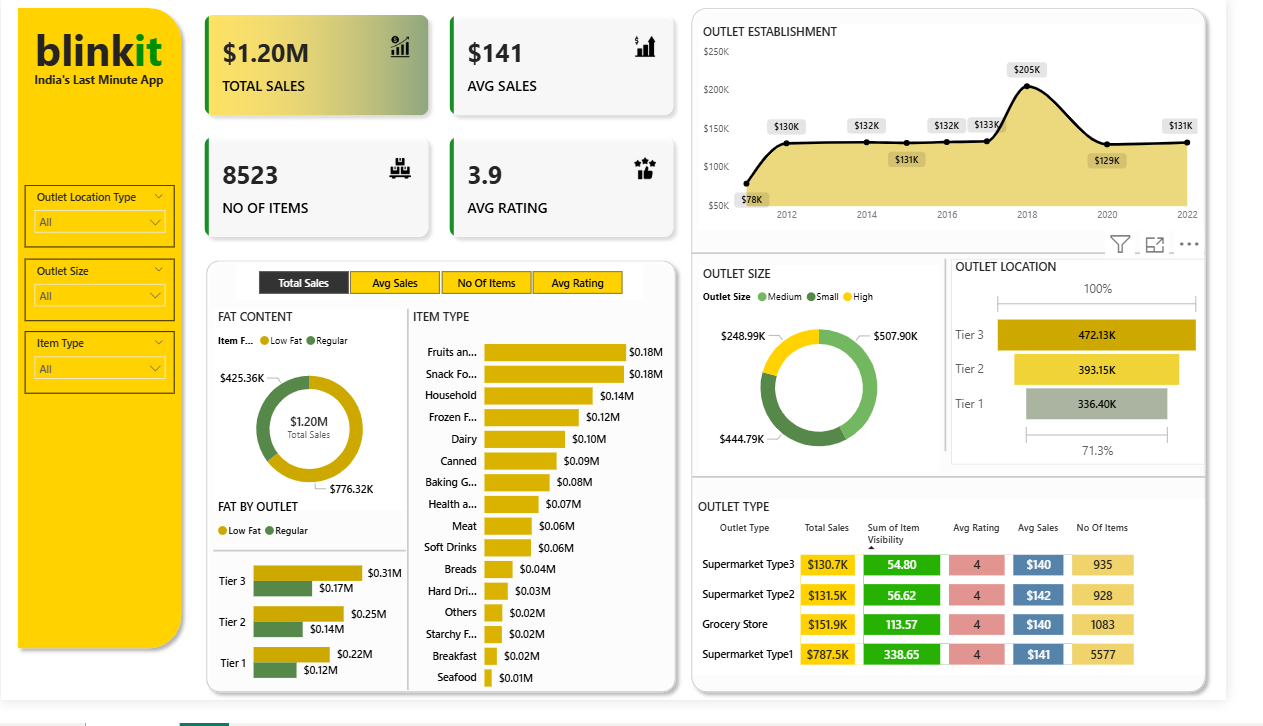

Layout of this report page (visuals, bound fields, positions):
{"tool":"powerbi","page":{"name":"Page 1","canvas":[1400,800],"ordinal":0},"visuals":[{"type":"shape","box":[10,0,205,750],"z":0},{"type":"textbox","box":[20,76.7,183.3,32.2],"z":1000},{"type":"textbox","box":[27.8,18.9,168.9,74.4],"z":2000},{"type":"cardVisual","fields":{"Data":["BlinkIT Grocery Data.Total Sales","BlinkIT Grocery Data.Avg Sales","BlinkIT Grocery Data.No Of Items","BlinkIT Grocery Data.Avg Rating"]},"box":[215.7,0,570,288.6],"z":3000},{"type":"shape","box":[225.7,288.6,554.3,511.4],"z":4000},{"type":"donutChart","title":"FAT CONTENT","fields":{"Y":["BlinkIT Grocery Data.Total Sales"],"Category":["BlinkIT Grocery Data.Item Fat Content"]},"box":[242.9,352.9,220,230],"z":5000},{"type":"slicer","fields":{"Values":["Metrics.Metrics"]},"box":[268.6,302.9,465.7,40],"z":6000},{"type":"cardVisual","fields":{"Data":["BlinkIT Grocery Data.Total Sales"]},"box":[284.3,444.3,135.7,87.1],"z":7000},{"type":"clusteredBarChart","title":"FAT BY OUTLET","fields":{"Y":["BlinkIT Grocery Data.Total Sales"],"Category":["BlinkIT Grocery Data.Outlet Location Type"],"Series":["BlinkIT Grocery Data.Item Fat Content"]},"box":[242.9,570,220,230],"z":8000},{"type":"shape","box":[242.9,622.9,220,12.9],"z":9000},{"type":"shape","box":[452.9,352.9,24.3,435.7],"z":10000},{"type":"barChart","title":"ITEM TYPE","fields":{"Y":["BlinkIT Grocery Data.Total Sales"],"Category":["BlinkIT Grocery Data.Item Type"]},"box":[465.7,352.9,295.7,447.1],"z":11000},{"type":"shape","box":[780,0,605.7,800],"z":12000},{"type":"lineChart","title":"OUTLET ESTABLISHMENT ","fields":{"Category":["BlinkIT Grocery Data.Outlet Establishment Year"],"Y":["BlinkIT Grocery Data.Total Sales"]},"box":[797.1,27.1,575.7,235.7],"z":13000},{"type":"shape","box":[788.6,282.9,587.1,12.9],"z":14000},{"type":"donutChart","title":"OUTLET SIZE","fields":{"Y":["BlinkIT Grocery Data.Total Sales"],"Category":["BlinkIT Grocery Data.Outlet Size"]},"box":[797.1,302.9,275.7,235.7],"z":15000},{"type":"shape","box":[1072.9,295.7,12.9,220],"z":16000},{"type":"funnel","title":"OUTLET LOCATION","fields":{"Y":["Sum(BlinkIT Grocery Data.Sales)"],"Category":["BlinkIT Grocery Data.Outlet Location Type"]},"box":[1085.7,295.7,290,235.7],"z":17000},{"type":"shape","box":[790,538.6,587.1,12.9],"z":18000},{"type":"pivotTable","title":"OUTLET TYPE","fields":{"Rows":["BlinkIT Grocery Data.Outlet Type"],"Values":["BlinkIT Grocery Data.Total Sales","Sum(BlinkIT Grocery Data.Item Visibility)","BlinkIT Grocery Data.Avg Rating","BlinkIT Grocery Data.Avg Sales","BlinkIT Grocery Data.No Of Items"]},"box":[791.4,570,584.3,201.4],"z":19000},{"type":"slicer","fields":{"Values":["BlinkIT Grocery Data.Outlet Location Type"]},"box":[27.1,211.4,171.4,71.4],"z":20000},{"type":"slicer","fields":{"Values":["BlinkIT Grocery Data.Outlet Size"]},"box":[27.1,295.7,171.4,71.4],"z":21000},{"type":"slicer","fields":{"Values":["BlinkIT Grocery Data.Item Type"]},"box":[27.1,378.6,171.4,71.4],"z":22000}]}

Visuals, with their boxes in screenshot pixels (x1, y1, x2, y2), scaled from the page's 1400x800 canvas onto the 1263x726 screenshot:
shape: [left=9, top=0, right=194, bottom=681]
textbox: [left=18, top=70, right=183, bottom=99]
textbox: [left=25, top=17, right=177, bottom=85]
cardVisual - BlinkIT Grocery Data.Total Sales x BlinkIT Grocery Data.Avg Sales: [left=195, top=0, right=709, bottom=262]
shape: [left=204, top=262, right=704, bottom=725]
"FAT CONTENT" donutChart: [left=219, top=320, right=418, bottom=529]
slicer - Metrics.Metrics: [left=242, top=275, right=662, bottom=311]
cardVisual - BlinkIT Grocery Data.Total Sales: [left=256, top=403, right=379, bottom=482]
"FAT BY OUTLET" clusteredBarChart: [left=219, top=517, right=418, bottom=725]
shape: [left=219, top=565, right=418, bottom=577]
shape: [left=409, top=320, right=431, bottom=716]
"ITEM TYPE" barChart: [left=420, top=320, right=687, bottom=725]
shape: [left=704, top=0, right=1250, bottom=725]
"OUTLET ESTABLISHMENT " lineChart: [left=719, top=25, right=1238, bottom=238]
shape: [left=711, top=257, right=1241, bottom=268]
"OUTLET SIZE" donutChart: [left=719, top=275, right=968, bottom=489]
shape: [left=968, top=268, right=980, bottom=468]
"OUTLET LOCATION" funnel: [left=979, top=268, right=1241, bottom=482]
shape: [left=713, top=489, right=1242, bottom=500]
"OUTLET TYPE" pivotTable: [left=714, top=517, right=1241, bottom=700]
slicer - BlinkIT Grocery Data.Outlet Location Type: [left=24, top=192, right=179, bottom=257]
slicer - BlinkIT Grocery Data.Outlet Size: [left=24, top=268, right=179, bottom=333]
slicer - BlinkIT Grocery Data.Item Type: [left=24, top=344, right=179, bottom=408]
